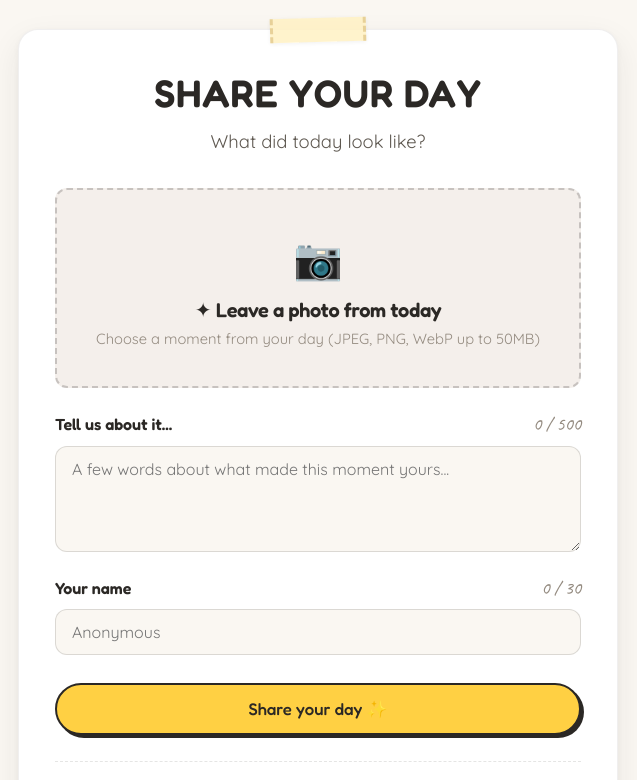
Test: ShareDayPage › rejects empty submission when neither photo nor text is provided
Click the button "Share your day ✨" at (318, 709), box [55,683,581,735]
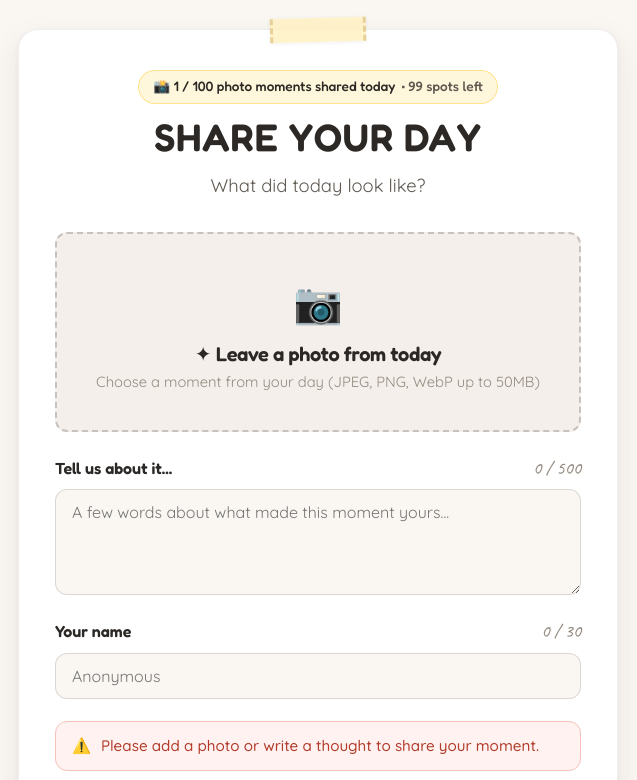
Result: the text "Please add a photo or write a thought to share your moment." is shown at [101,734,539,758]
